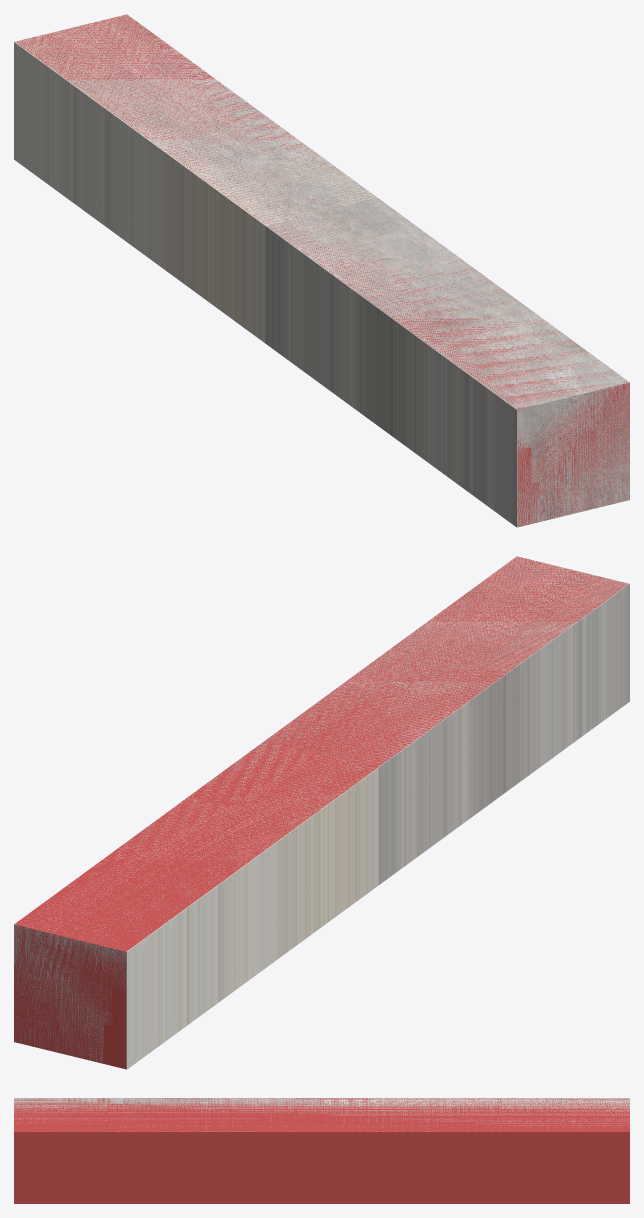
File: warehouse_wall_trim_01.DAE
3 renders of one model, top to bottom at view 1: azimuth 30°, elevation 25°; view 2: azimuth 150°, elevation 25°; view 3: azimuth 270°, elevation 25°, orthographic. The views are drawn at different scales.
Visible parts, largest first — view 1: colbox-01, warehouse_wall_trim_upper, bounds; view 2: colbox-01, bounds, warehouse_wall_trim_upper; view 3: bounds, warehouse_wall_trim_upper, colbox-01.
Boxes of the visible parts, x1,y1,x2,y2 form: colbox-01: [14, 15, 629, 527]; warehouse_wall_trim_upper: [15, 14, 629, 521]; bounds: [15, 14, 629, 526]; colbox-01: [14, 558, 629, 1069]; bounds: [14, 556, 628, 1069]; warehouse_wall_trim_upper: [14, 556, 628, 1063]; bounds: [14, 1098, 629, 1203]; warehouse_wall_trim_upper: [14, 1098, 629, 1131]; colbox-01: [14, 1098, 629, 1119].
Size of the model in its own units: 80.49 by 620 by 80.
3 materials, 2 textured.
